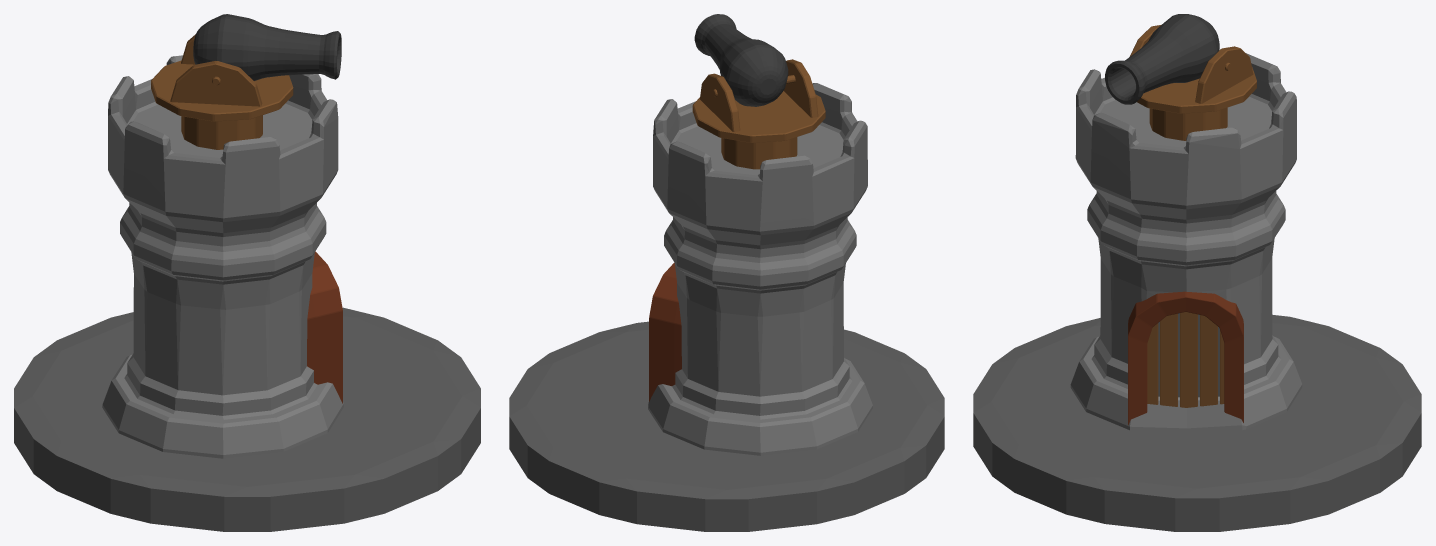
The model's file is defence_Phao_1.fbx.
3 renders of one model, left to right at view 1: azimuth 30°, elevation 25°; view 2: azimuth 150°, elevation 25°; view 3: azimuth 270°, elevation 25°, orthographic. The views are drawn at different scales.
Parts seen in each view (by area): view 1: Turret_1_Level_1_Base, Turret_1_Level_1_Weapon; view 2: Turret_1_Level_1_Base, Turret_1_Level_1_Weapon; view 3: Turret_1_Level_1_Base, Turret_1_Level_1_Weapon.
Part boxes in pixels (box(x1,y1,x2,y2)): Turret_1_Level_1_Base: box(14, 55, 480, 531); Turret_1_Level_1_Weapon: box(151, 14, 341, 149); Turret_1_Level_1_Base: box(509, 83, 944, 531); Turret_1_Level_1_Weapon: box(692, 14, 825, 169); Turret_1_Level_1_Base: box(973, 53, 1421, 531); Turret_1_Level_1_Weapon: box(1105, 14, 1256, 140).
Bounding box in the file's own units: 385 × 389 × 385.
